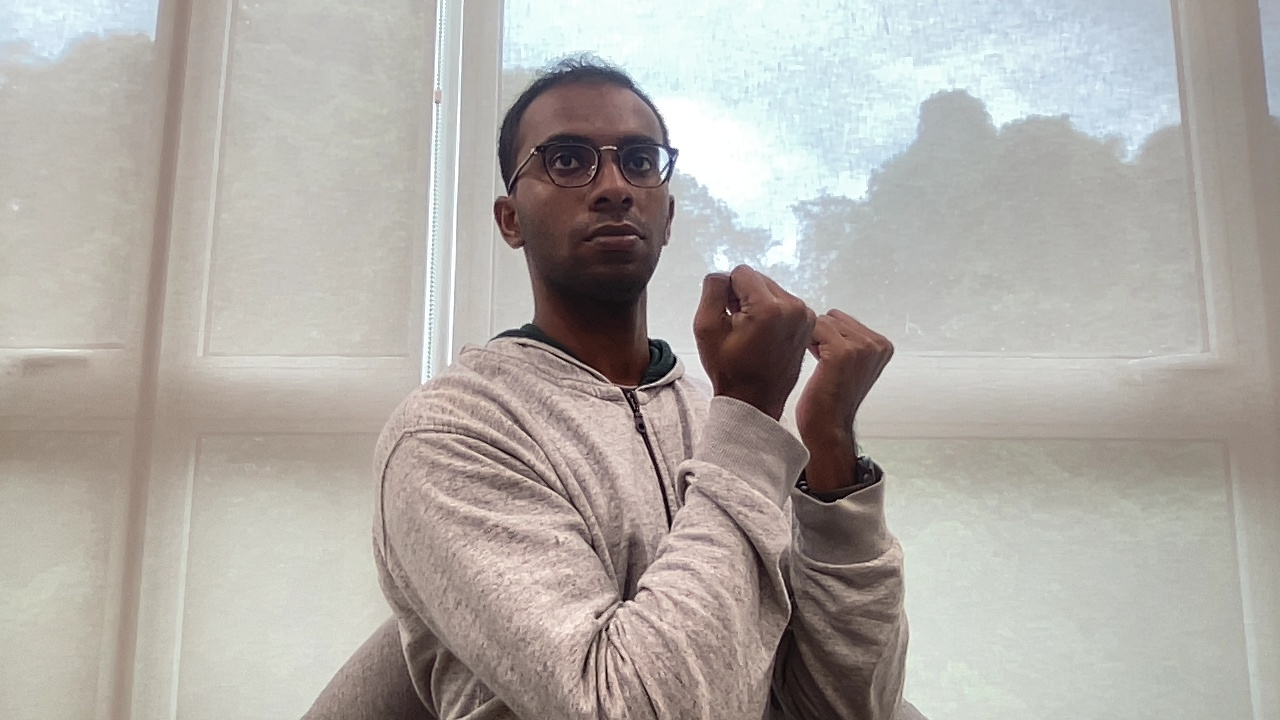finish: (686, 256, 896, 475)
